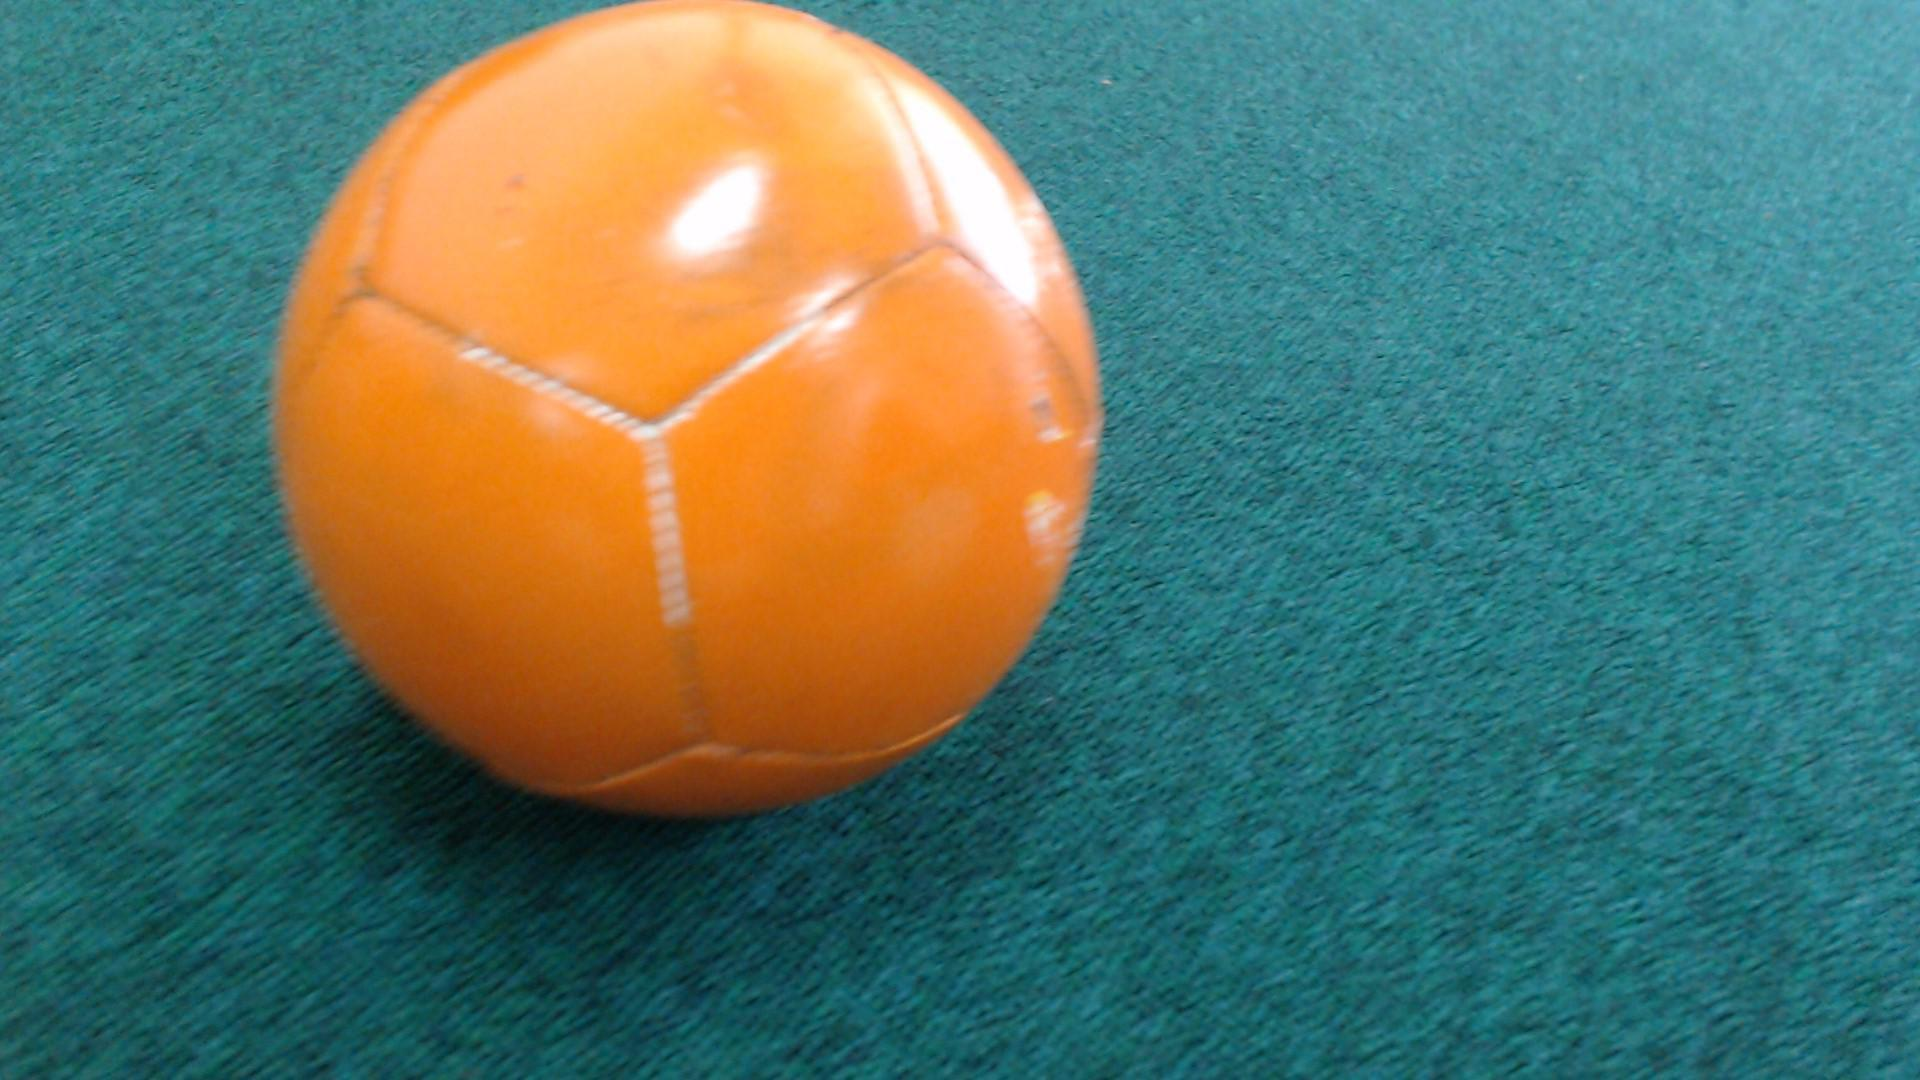bola: (244, 0, 1151, 851)
